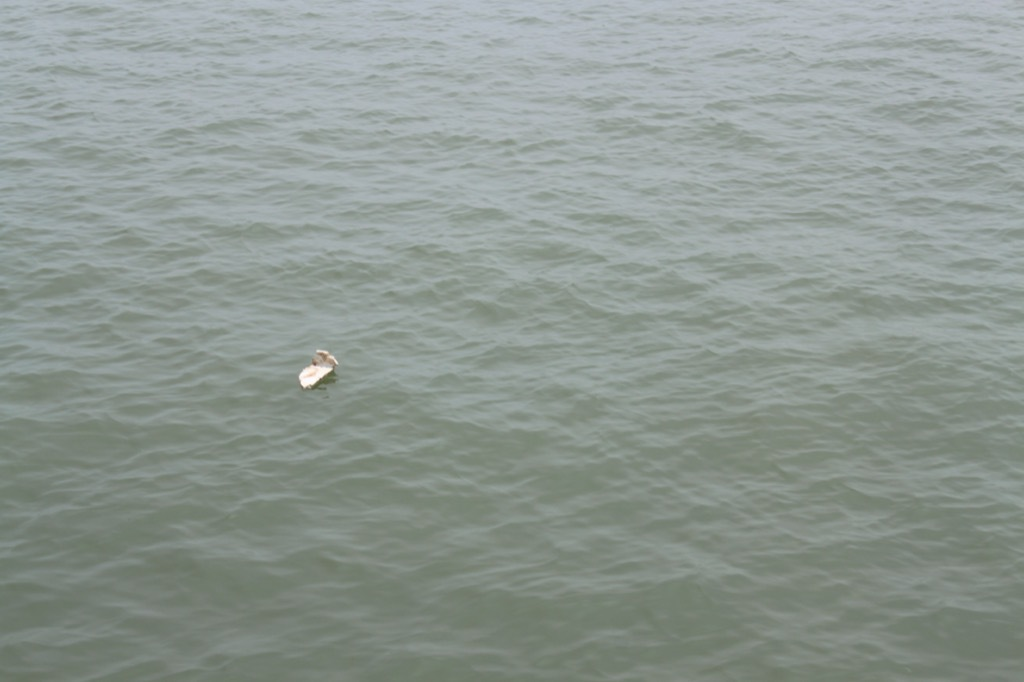plastic: (284, 336, 352, 406)
